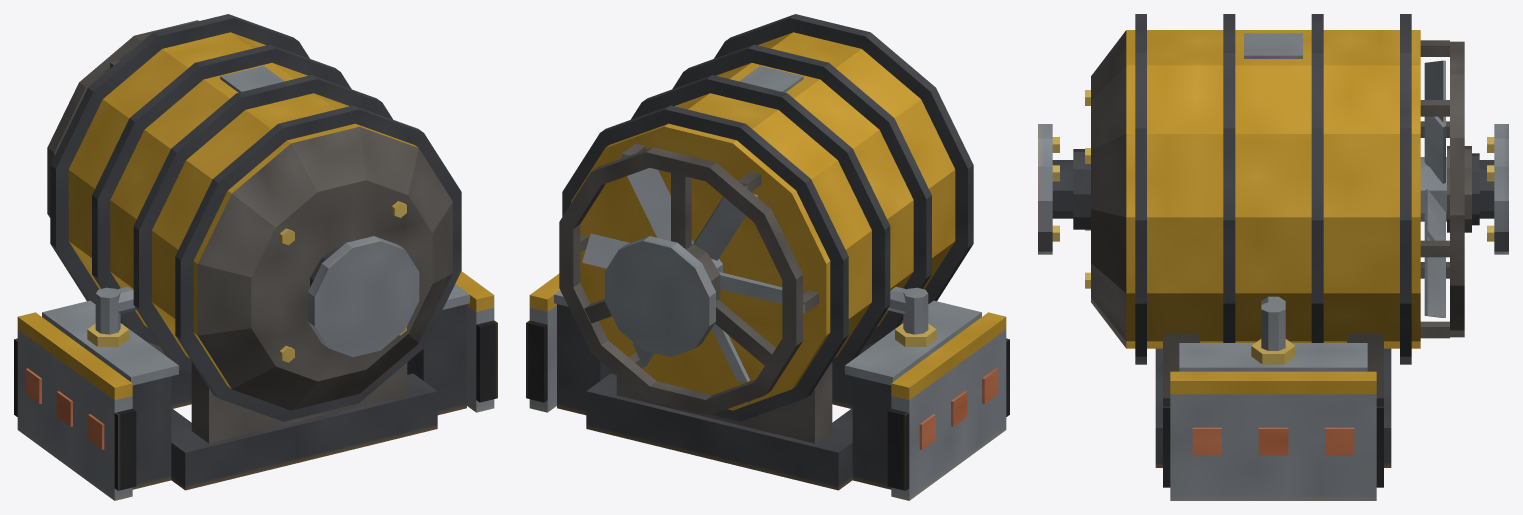
File: shaftgen8kw.obj
The picture shows the model from 3 angles, left to right: view 1: azimuth 30°, elevation 25°; view 2: azimuth 150°, elevation 25°; view 3: azimuth 270°, elevation 25°; orthographic projection. The views are drawn at different scales.
Parts seen in each view (by area): view 1: main, rotor; view 2: main, rotor; view 3: main, rotor.
Part boxes in pixels (x1,y1,x2,y2): main: [14, 14, 497, 500]; rotor: [308, 236, 419, 356]; main: [526, 14, 1009, 500]; rotor: [582, 168, 782, 382]; main: [1073, 14, 1479, 500]; rotor: [1038, 60, 1508, 317].
Bounding box in the file's own units: 1 × 0.8652 × 1.
1 material, 1 textured.
